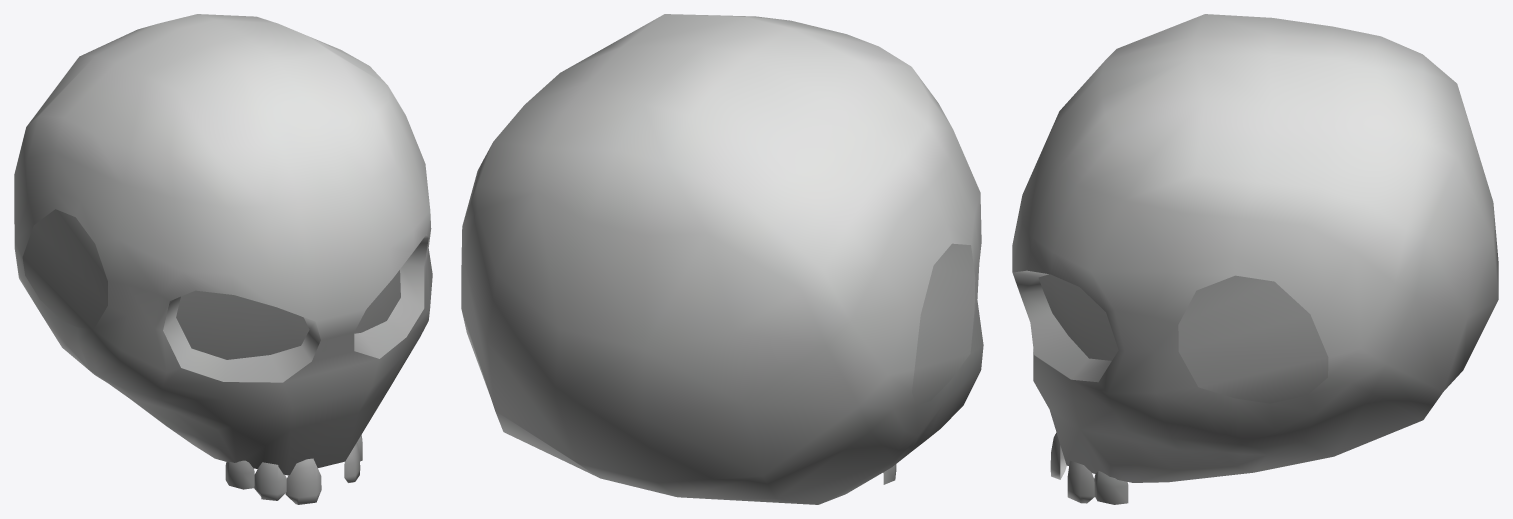
File: kafa 1.fbx
The picture shows the model from 3 angles, left to right: view 1: azimuth 30°, elevation 25°; view 2: azimuth 150°, elevation 25°; view 3: azimuth 270°, elevation 25°; orthographic projection. The views are drawn at different scales.
Parts seen in each view (by area): view 1: polySurface8; view 2: polySurface8; view 3: polySurface8.
Boxes of the visible parts, bbox=[...] form: polySurface8: bbox=[14, 14, 432, 504]; polySurface8: bbox=[461, 14, 983, 504]; polySurface8: bbox=[1012, 14, 1498, 504].
Bounding box in the file's own units: 34.1 × 35.92 × 36.09.
